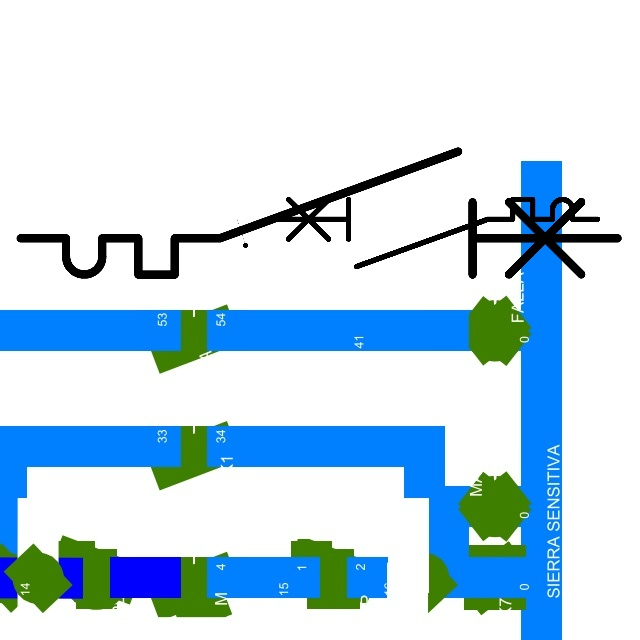interruptor_termomagnetico: (5, 136, 633, 290), (260, 191, 606, 275)
